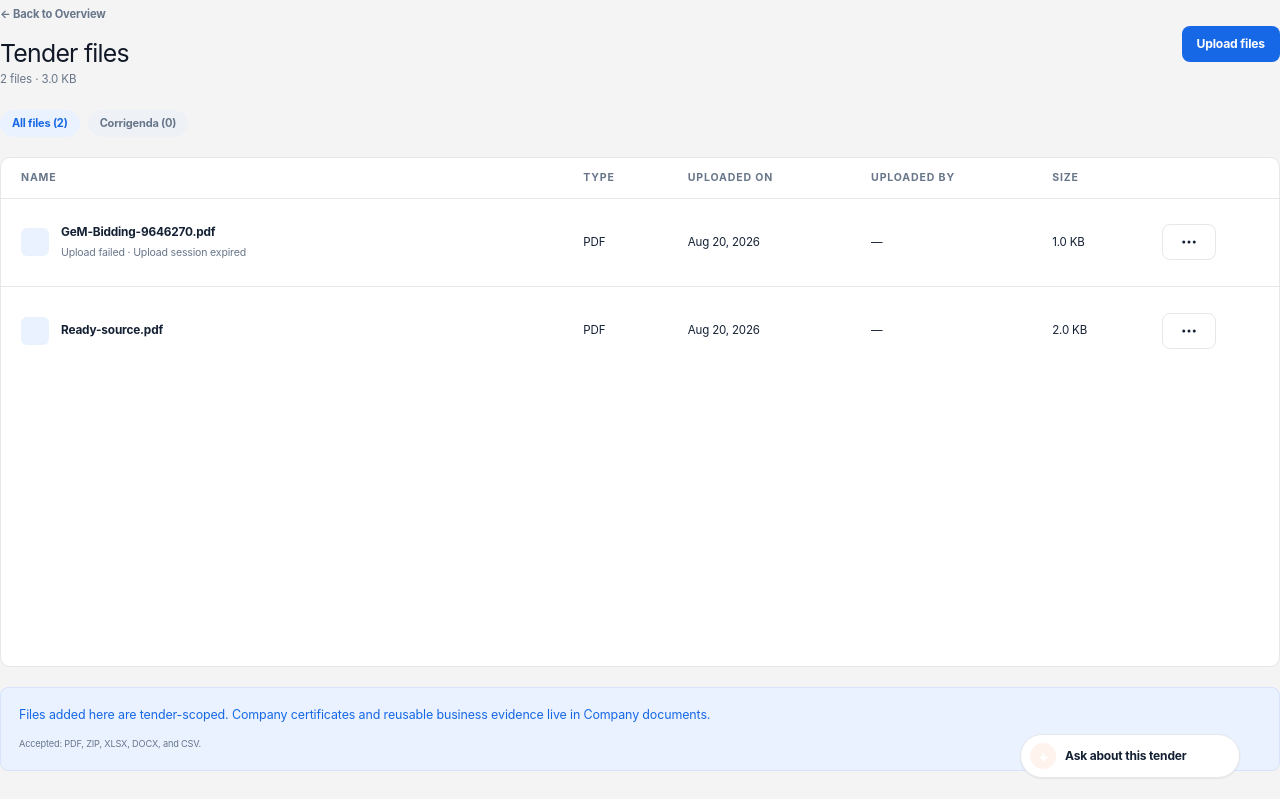
Test: tender workspace stages › keeps file actions in compact row menus and confirms failed-upload removal
Expected: the heading "Tender files" is shown, [0,40,129,68]
Expected: the text "GeM-Bidding-9646270.pdf" is shown, [61,225,215,239]
Click the heading named "Actions for GeM-Bidding-9646270.pdf": (1188, 242) [1162,224,1216,260]
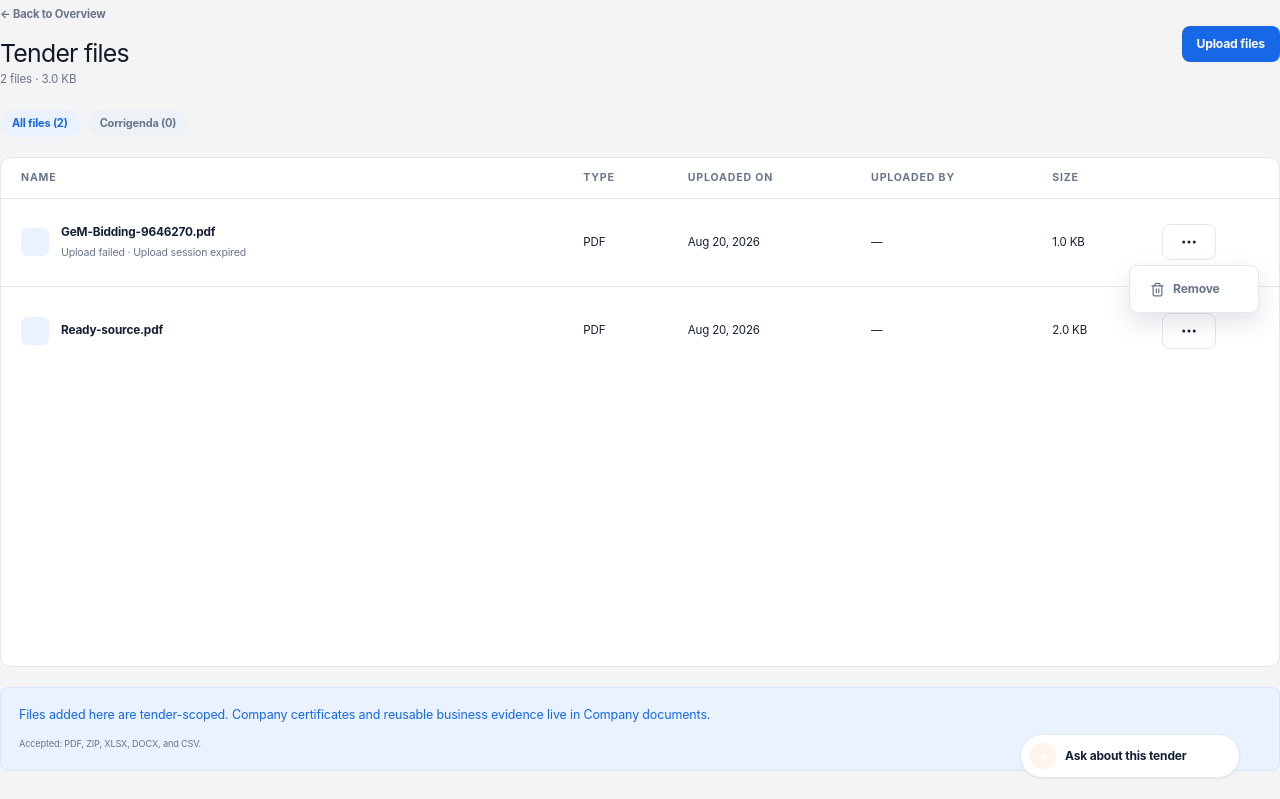
Click the button with aria-label "Remove failed upload GeM-Bidding-9646270.pdf": (1194, 289) [1135,271,1253,307]
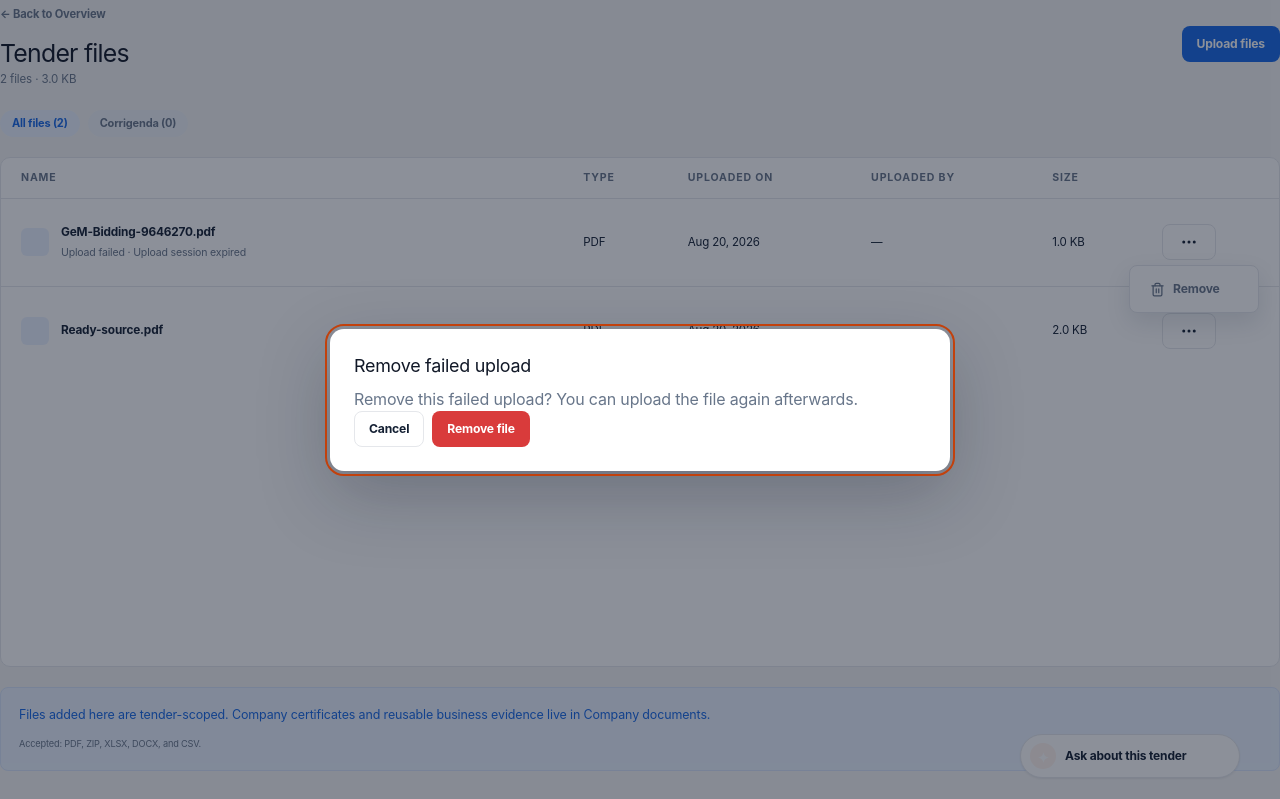
Result: the heading "Remove failed upload" is shown at [354,355,531,376]
Result: the text "Remove this failed upload? You can upload the file again afterwards." is shown at [354,387,926,411]
Click the button "Remove file": (481, 429) [432,411,530,447]
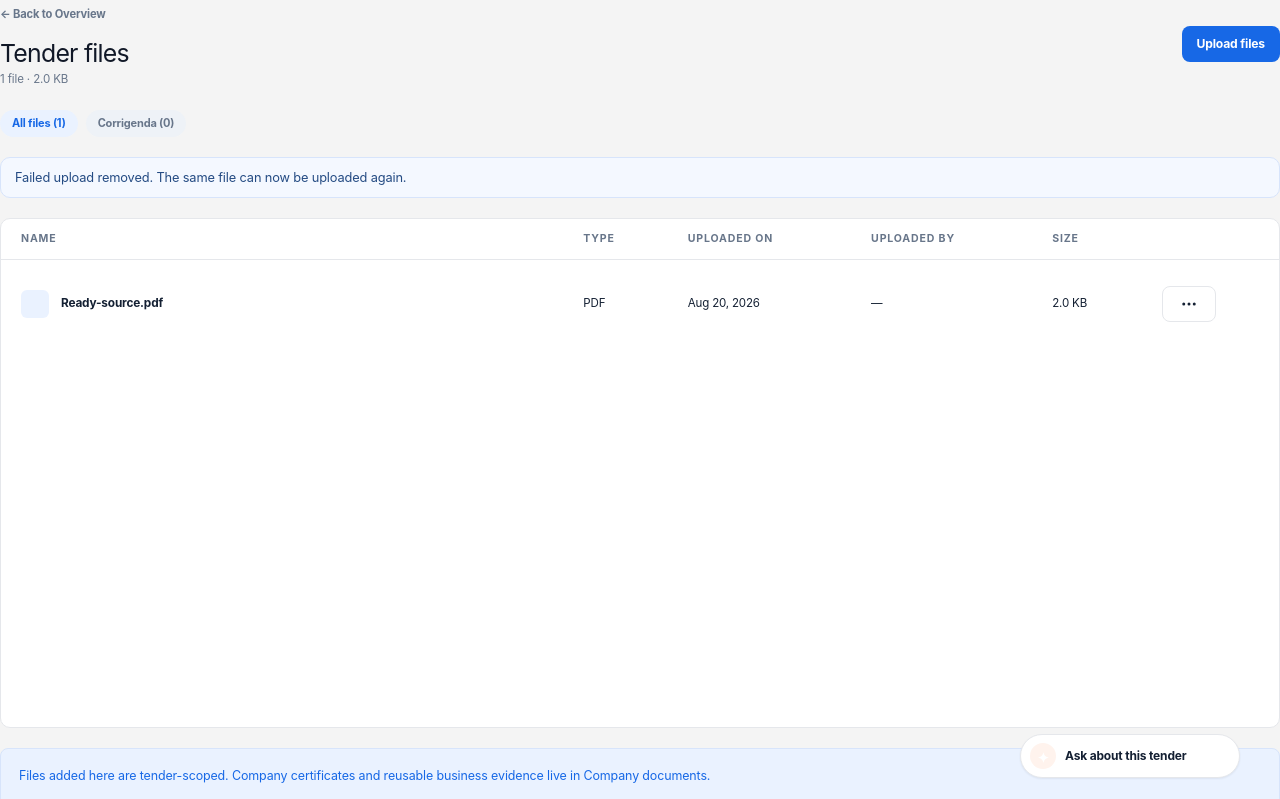
Result: the text "GeM-Bidding-9646270.pdf" is gone
Result: the text "Failed upload removed. The same file can now be uploaded again." is shown at [0,157,1279,198]
